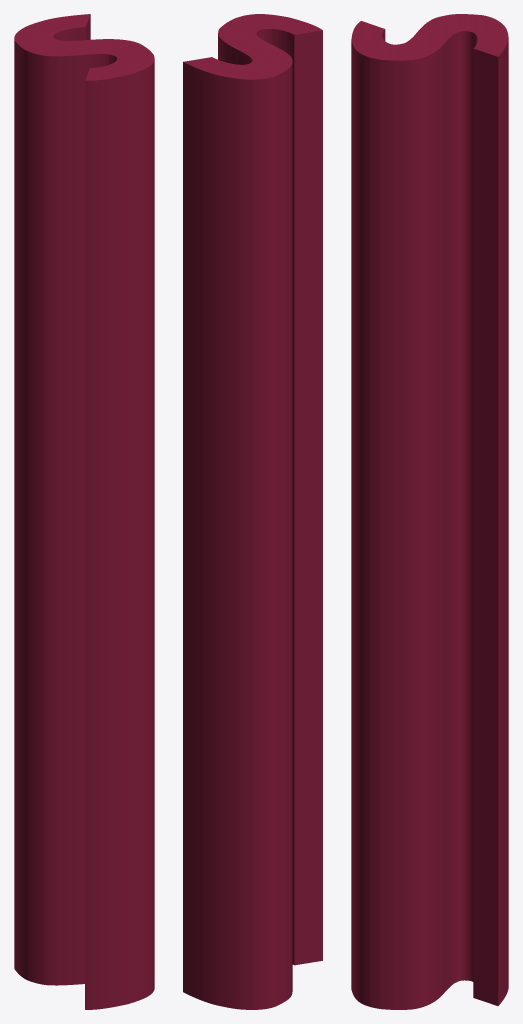
3 views of the same model, side by side, from view 1: azimuth 30°, elevation 25°; view 2: azimuth 150°, elevation 25°; view 3: azimuth 270°, elevation 25° (orthographic). The views are drawn at different scales.
Parts seen in each view (by area): view 1: Curve; view 2: Curve; view 3: Curve.
Part boxes in pixels (left/top/right/bottom): Curve: left=14, top=14, right=154, bottom=1009; Curve: left=183, top=14, right=322, bottom=1009; Curve: left=351, top=14, right=508, bottom=1009.
Size of the model in its own units: 5.27 by 50 by 7.5.
